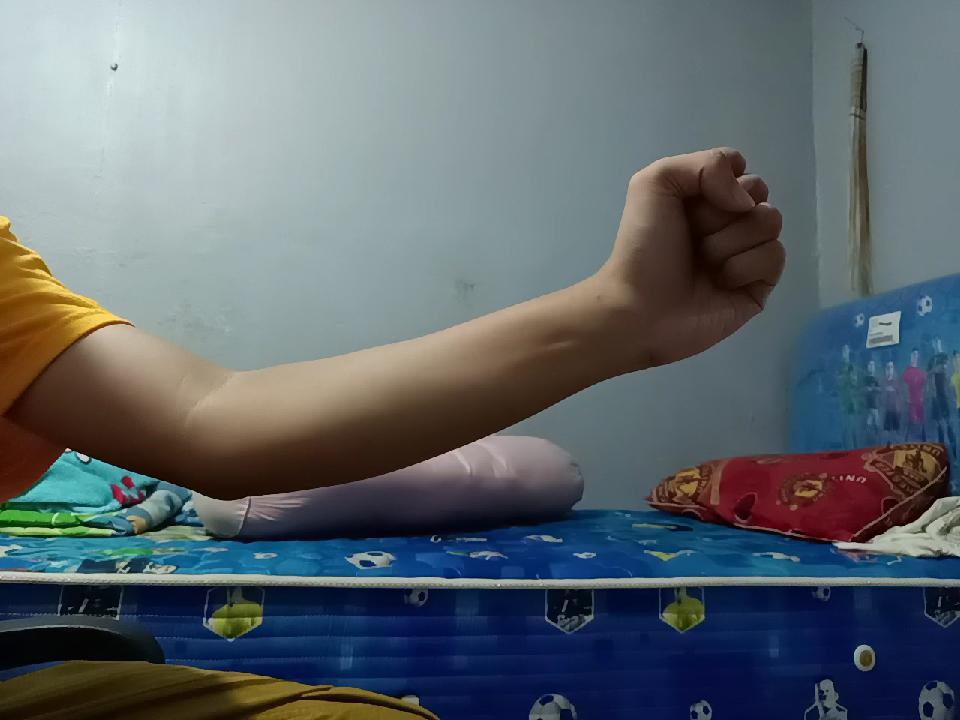rock: (600, 132, 792, 391)
